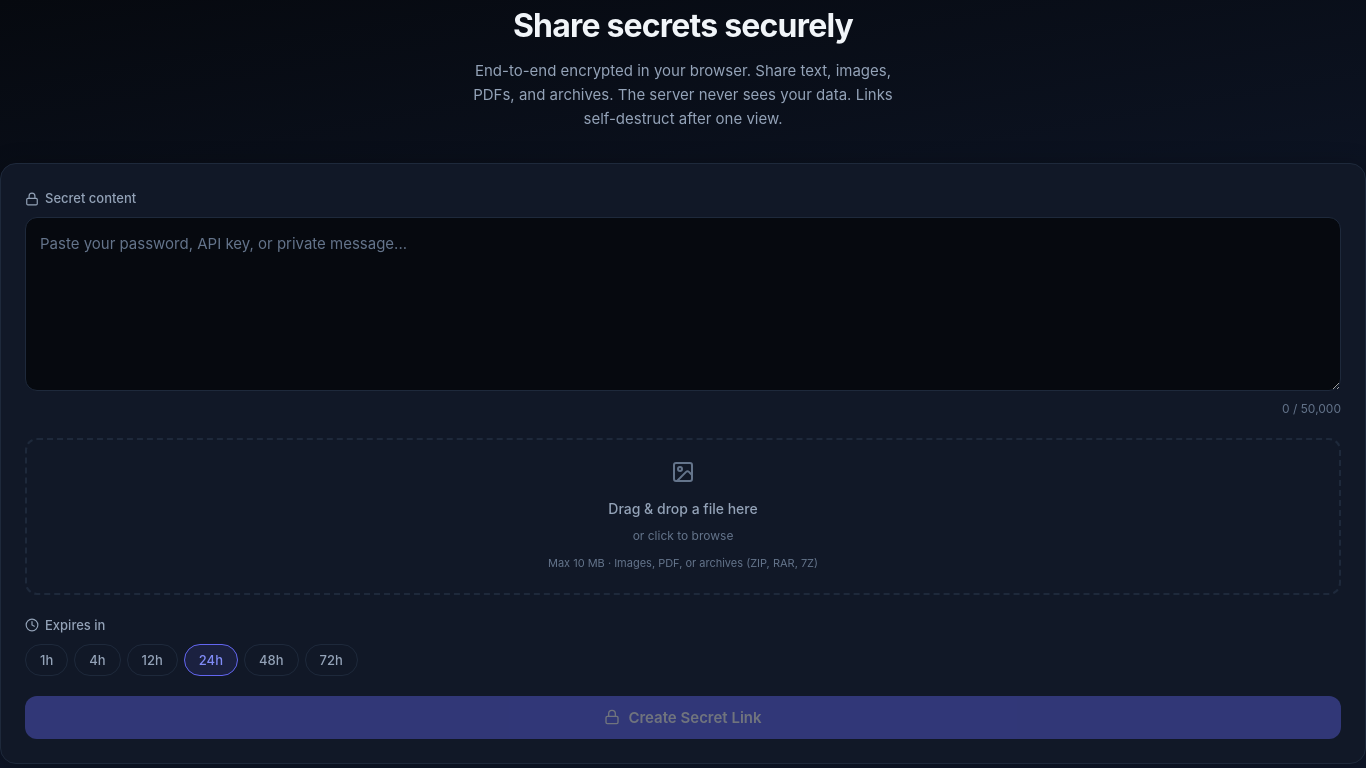
Test: CreateSecret › shows character count
This screenshot has width=1366, height=768.
Type "hello" into the text box with placeholder "Paste your password, API key, or private message...".
click(683, 304); type("hello")  # box [25, 217, 1341, 391]
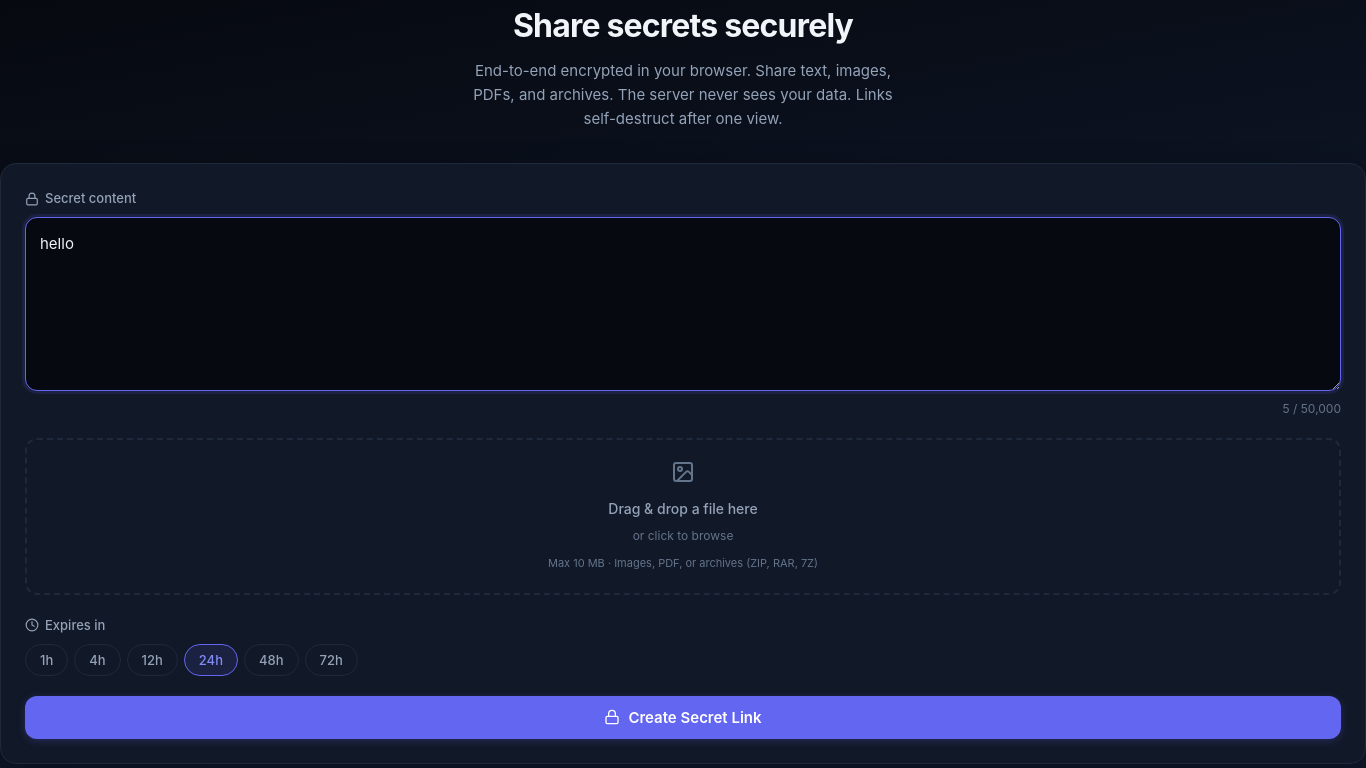
Now the text "5 / 50,000" is shown, box [1282, 401, 1341, 416]
